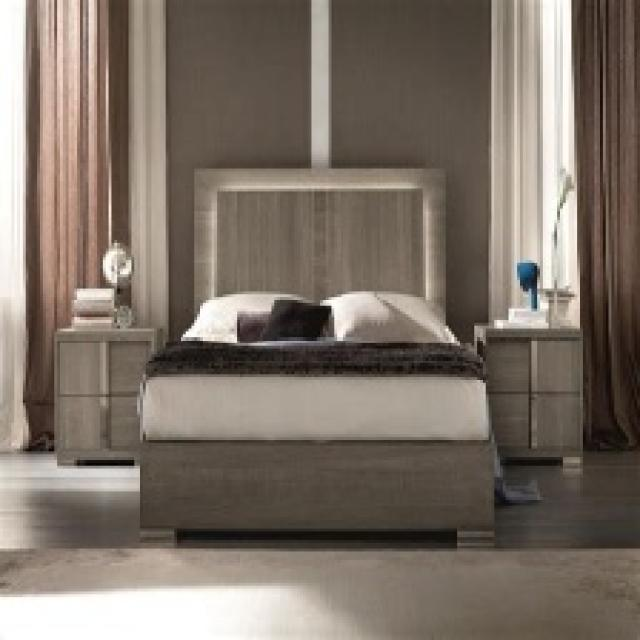Bed: (134, 165, 500, 546)
